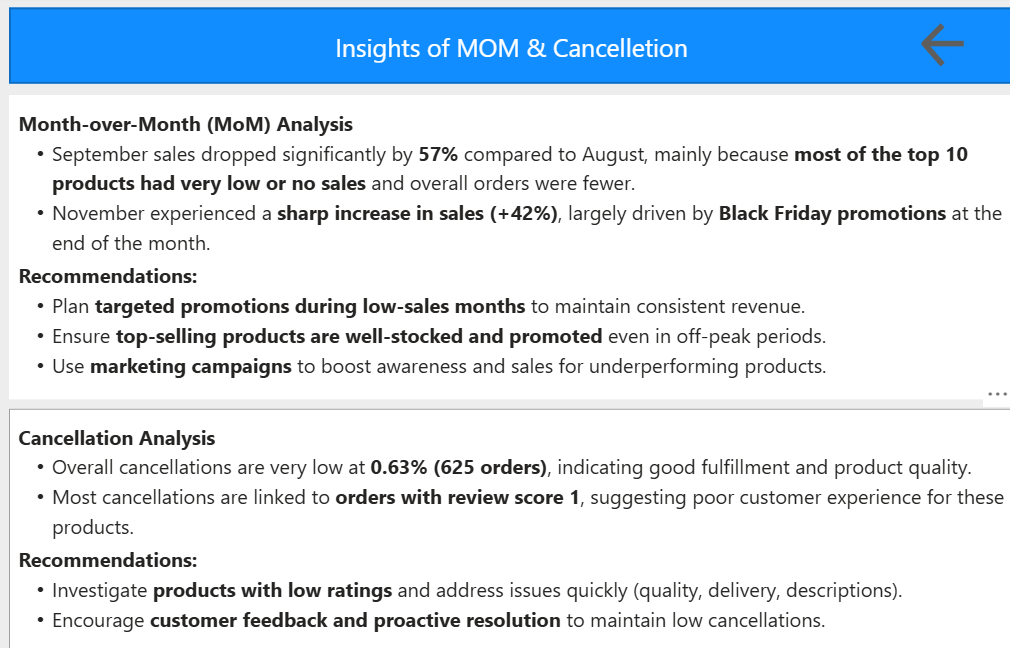

What the dashboard file says about the page in this screenshot:
{"tool":"powerbi","page":{"name":"Insights","canvas":[550,400],"ordinal":4},"visuals":[{"type":"textbox","box":[5.4,53.6,538.9,162.9],"z":0},{"type":"textbox","box":[5.4,221.9,538.9,130.7],"z":1000},{"type":"shape","box":[5.4,6.7,538.9,40.9],"z":2000},{"type":"actionButton","box":[490.6,10.7,46.2,32.2],"z":3000}]}

Visuals, with their boxes on the page's 550x400 design canvas (x1, y1, x2, y2). These are canvas units, not pixel positions in the 1010x648 screenshot, which may show the page scaled, cropped or inside an application window:
textbox: region(5, 54, 544, 216)
textbox: region(5, 222, 544, 353)
shape: region(5, 7, 544, 48)
actionButton: region(491, 11, 537, 43)
